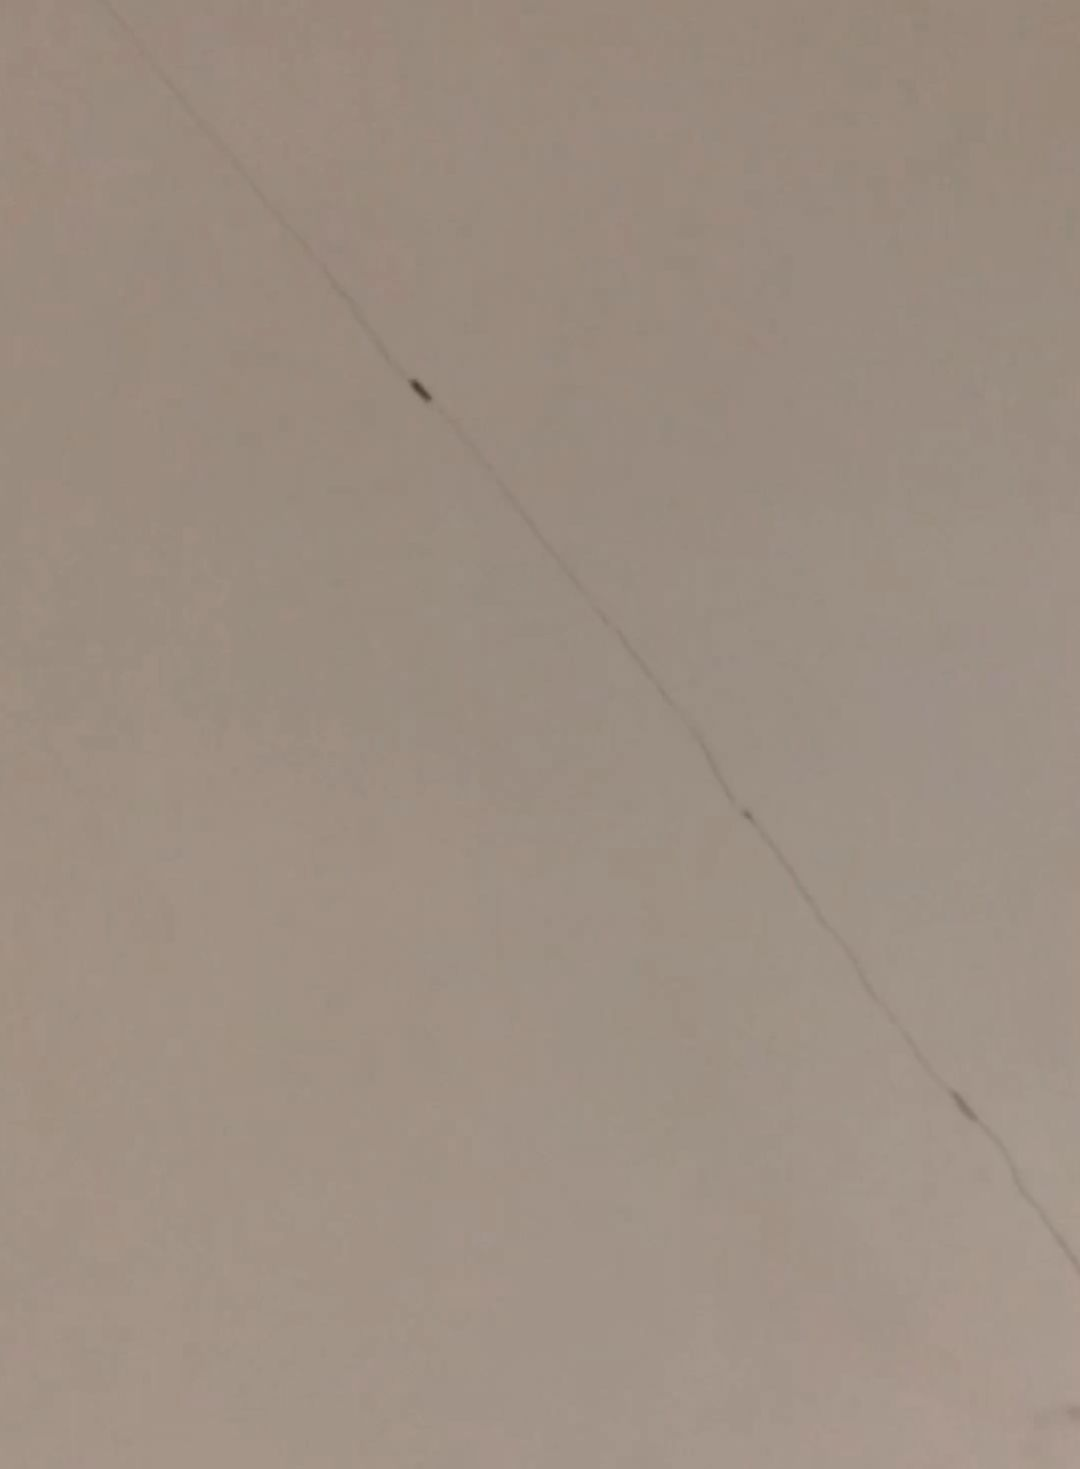Low: (99, 2, 1080, 1310)
